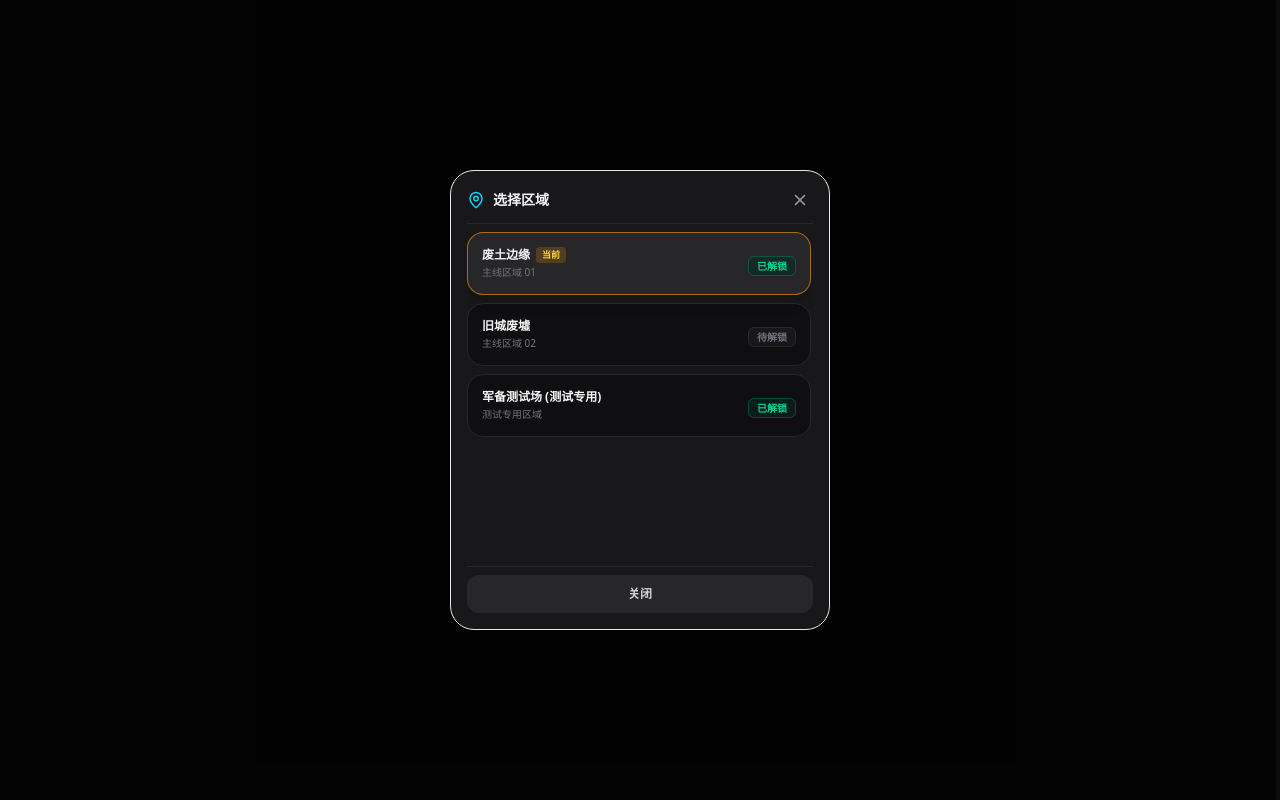
Test case: RegionSelectorModal and RegionDetailModal Components › opens RegionDetailModal and disables confirm when locked in exploration mode
The image size is (1280, 800).
Note: Click on old_town_ruins (locked region in exploration)
Click the element with test id "region-item-old_town_ruins" at (639, 334), box [467, 303, 811, 366]
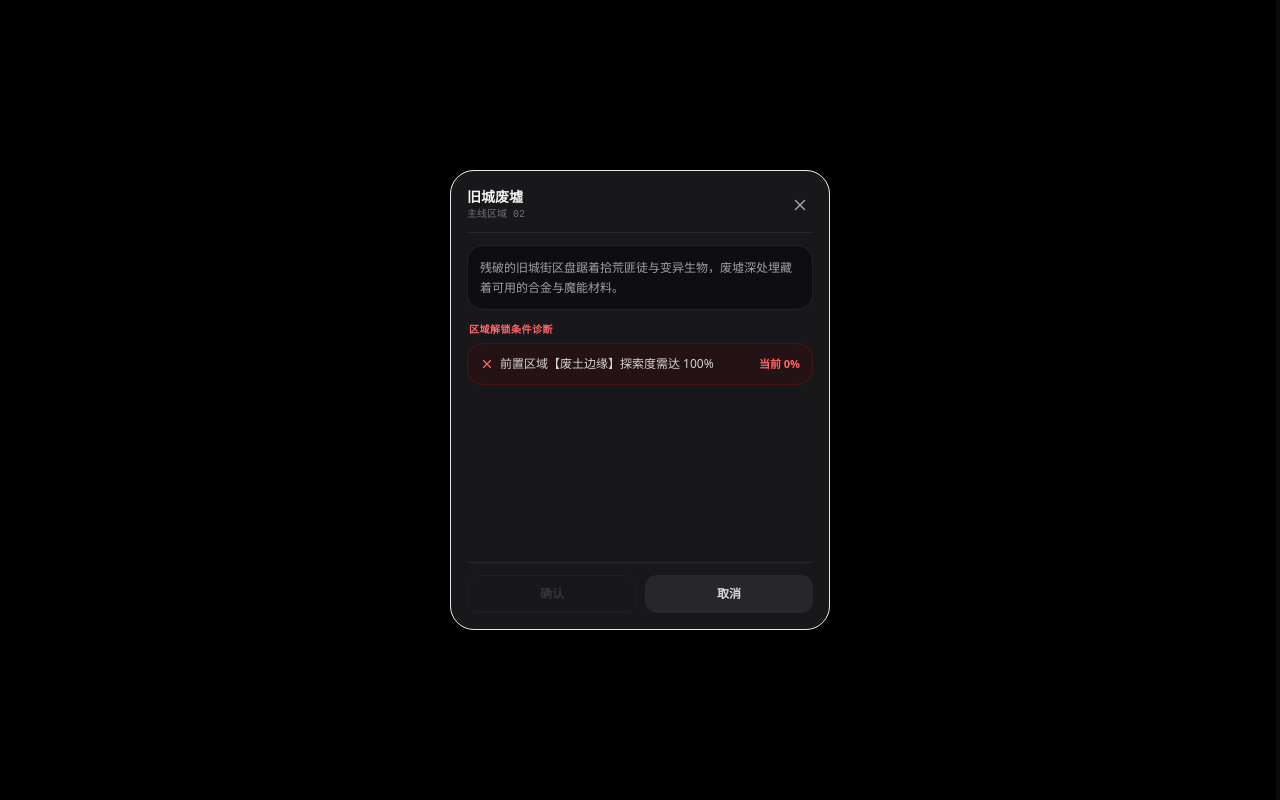
Result: the element with test id "region-detail-modal" is shown at [450, 170, 830, 630]
Result: the element with test id "lock-diagnostics-section" is shown at [467, 322, 813, 385]
Result: the text "区域解锁条件诊断" is shown at [469, 322, 553, 336]
Note: Cancel button works
Click the button "取消" at (729, 594), box [645, 575, 813, 613]
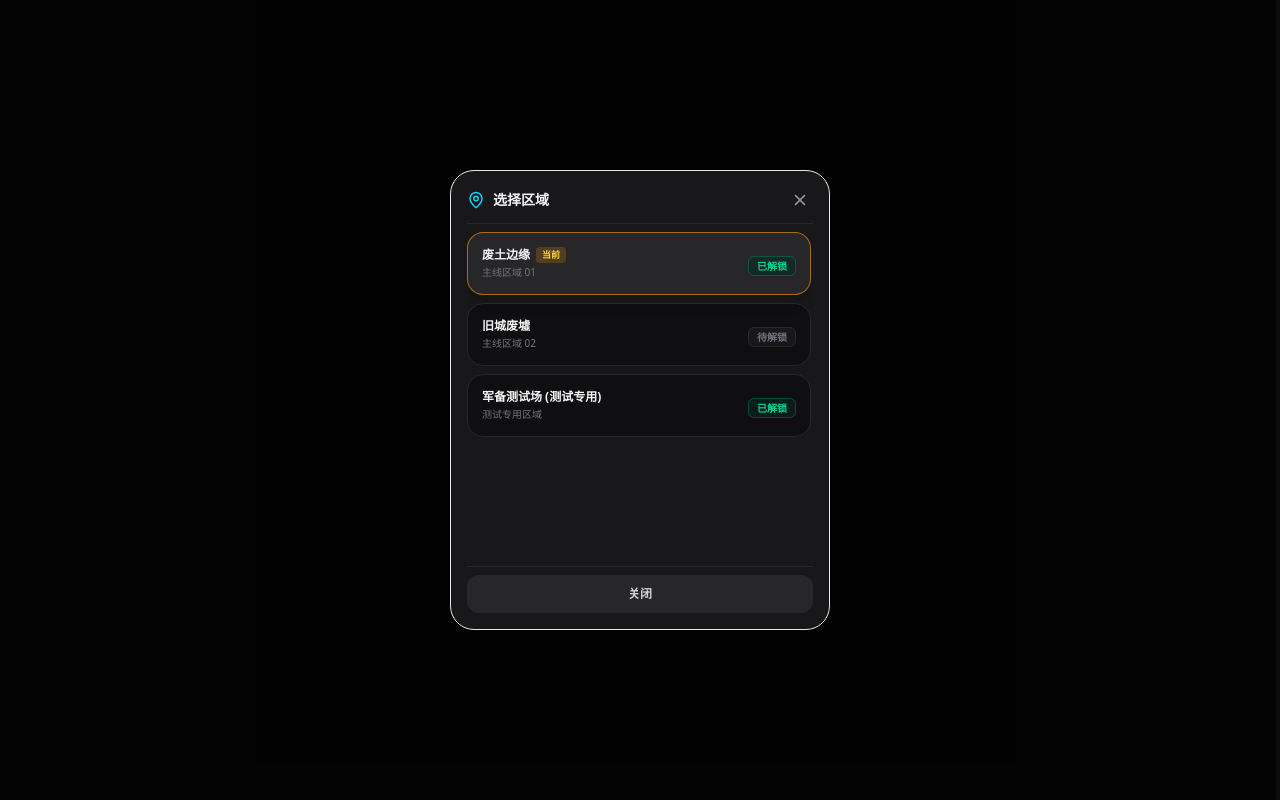
Result: the element with test id "region-detail-modal" is gone
